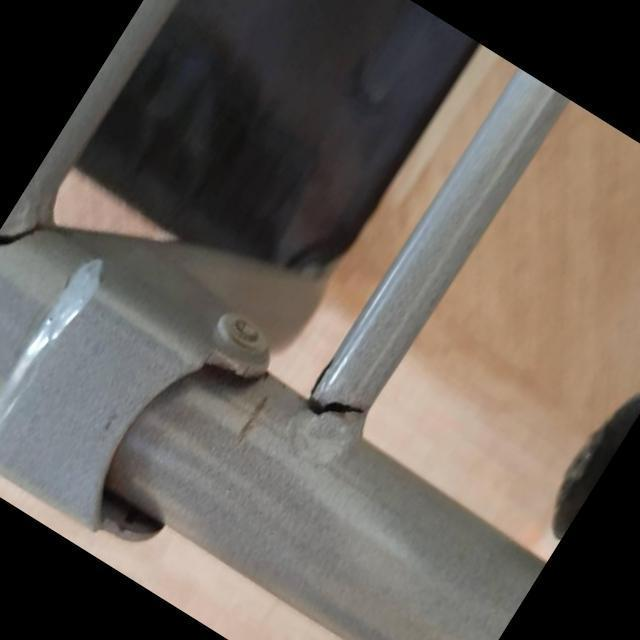defect: (303, 349, 369, 419)
